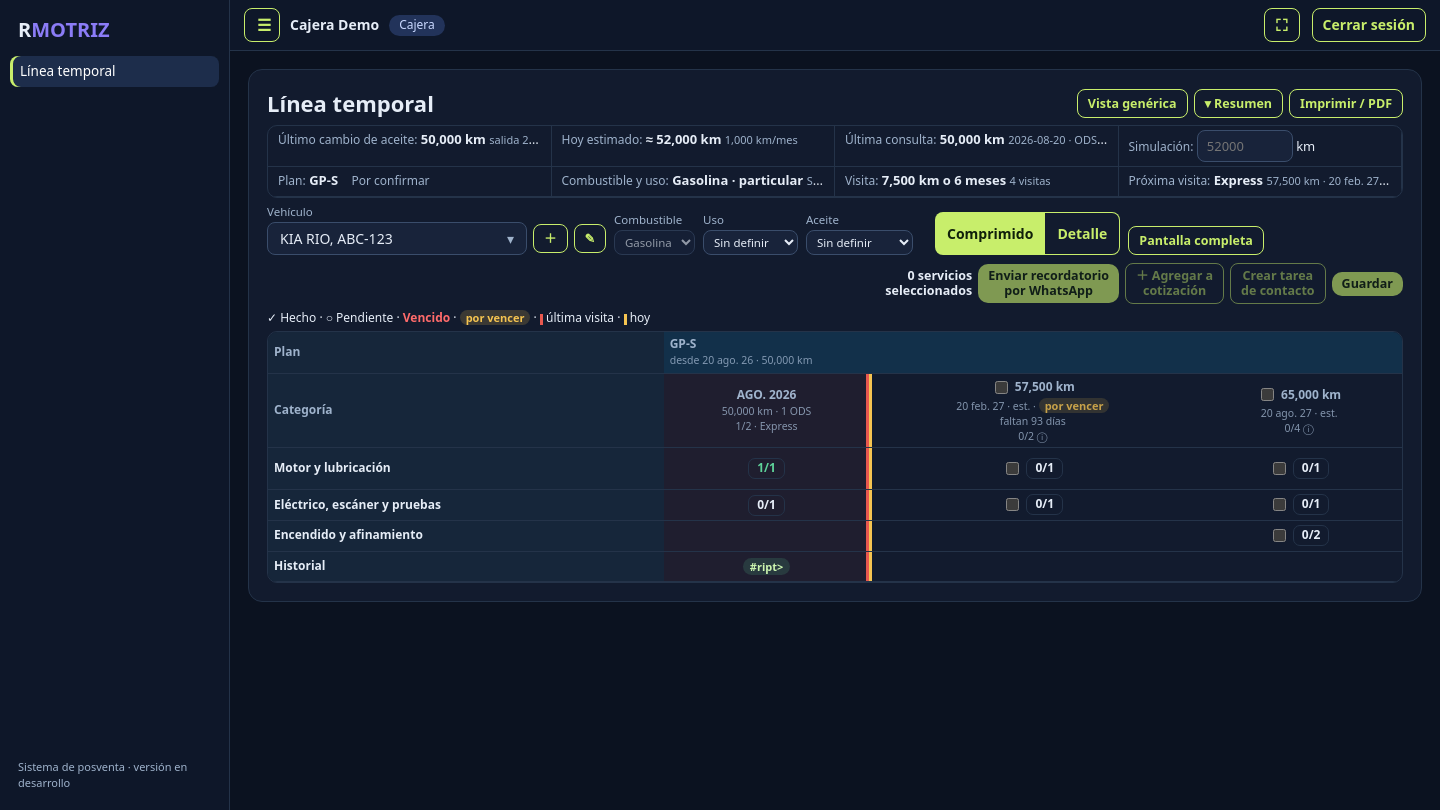
it: en detalle, elegir carburador bloquea inyección
Click the button "Detalle" at {"x": 1083, "y": 234}, box [1045, 212, 1120, 256]
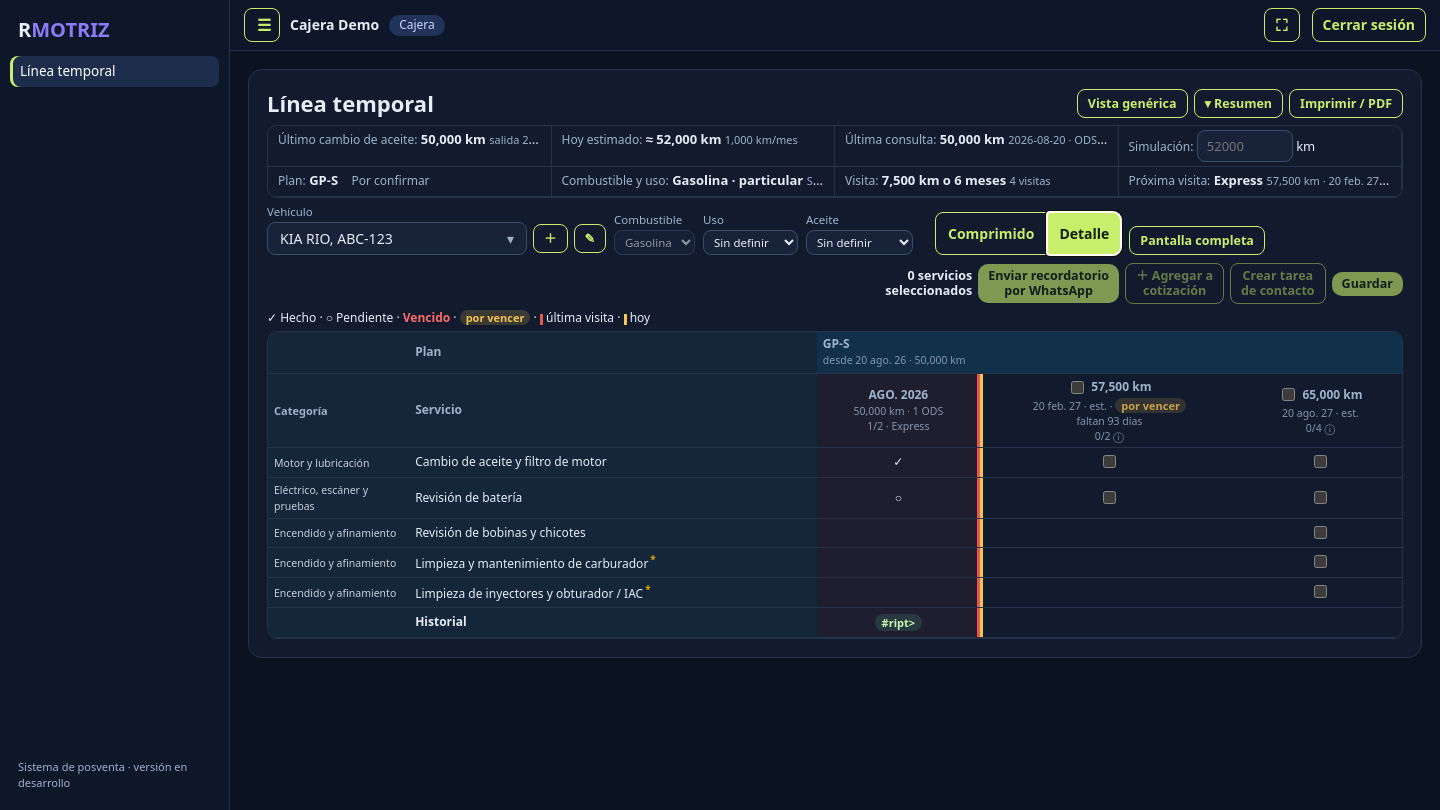
Click the checkbox named "Limpieza y mantenimiento de carburador en 65000 km" at {"x": 1321, "y": 562}, box [1314, 555, 1327, 568]
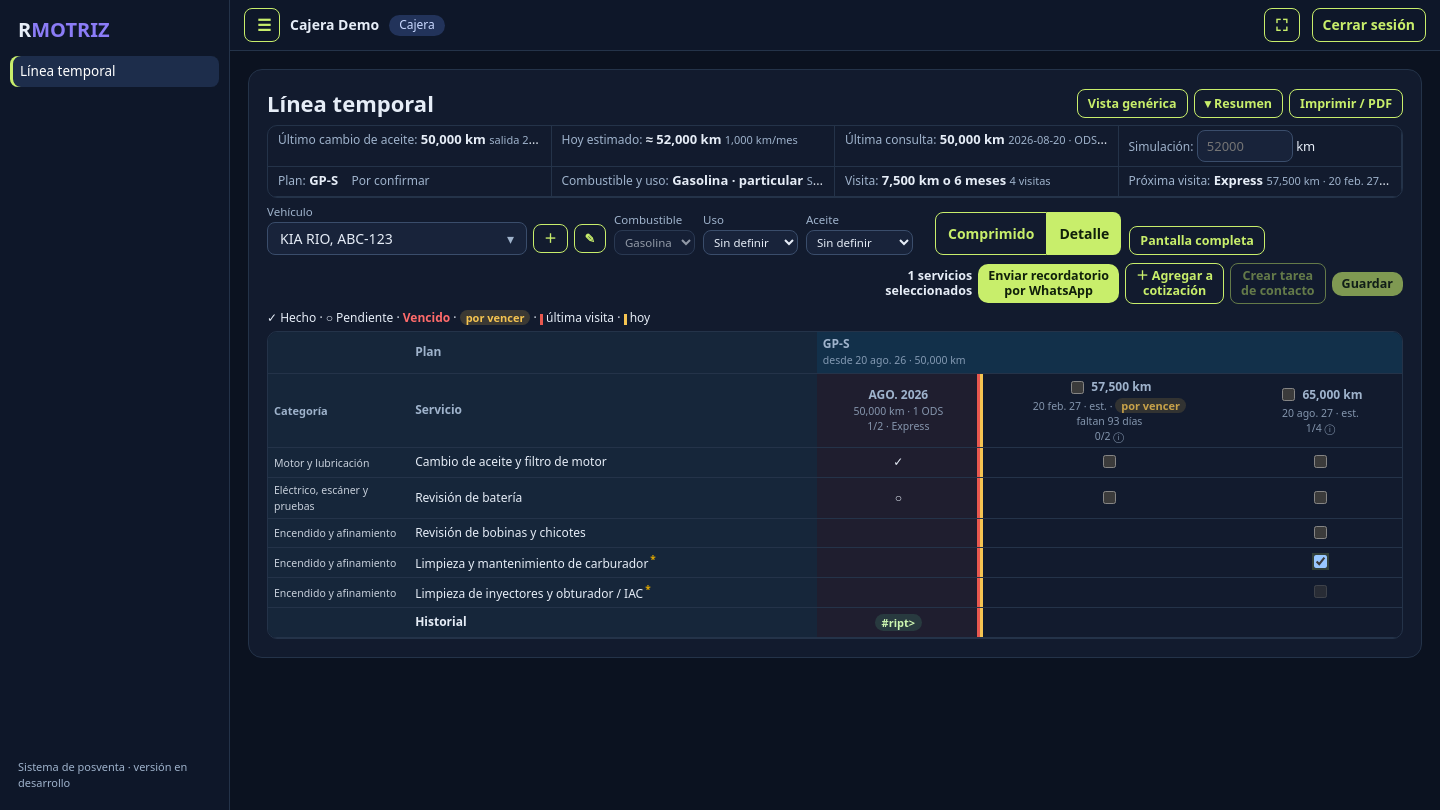
Expected: the checkbox named "Limpieza de inyectores y obturador / IAC en 65000 km" is disabled, [1314, 585, 1327, 598]
